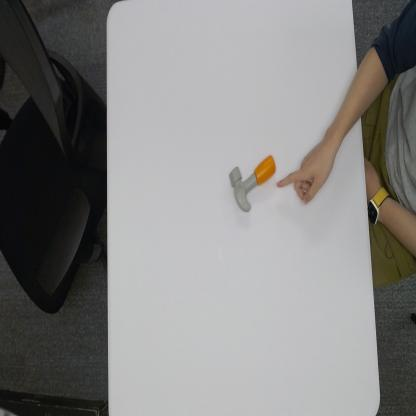Arm: (330, 60, 360, 157)
Hammer: (229, 153, 276, 213)
Hand: (276, 139, 336, 206)
